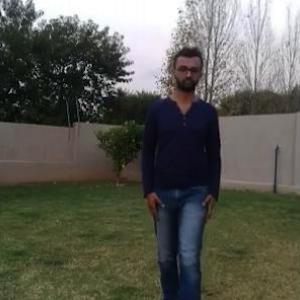follow: (145, 56, 217, 299)
